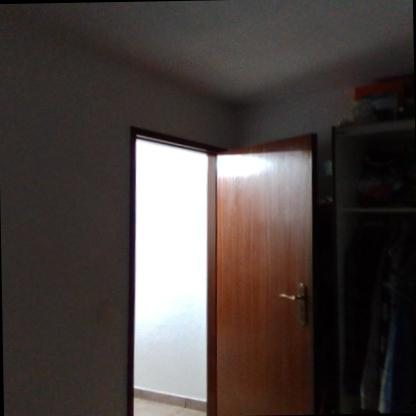open: (107, 120, 328, 414)
